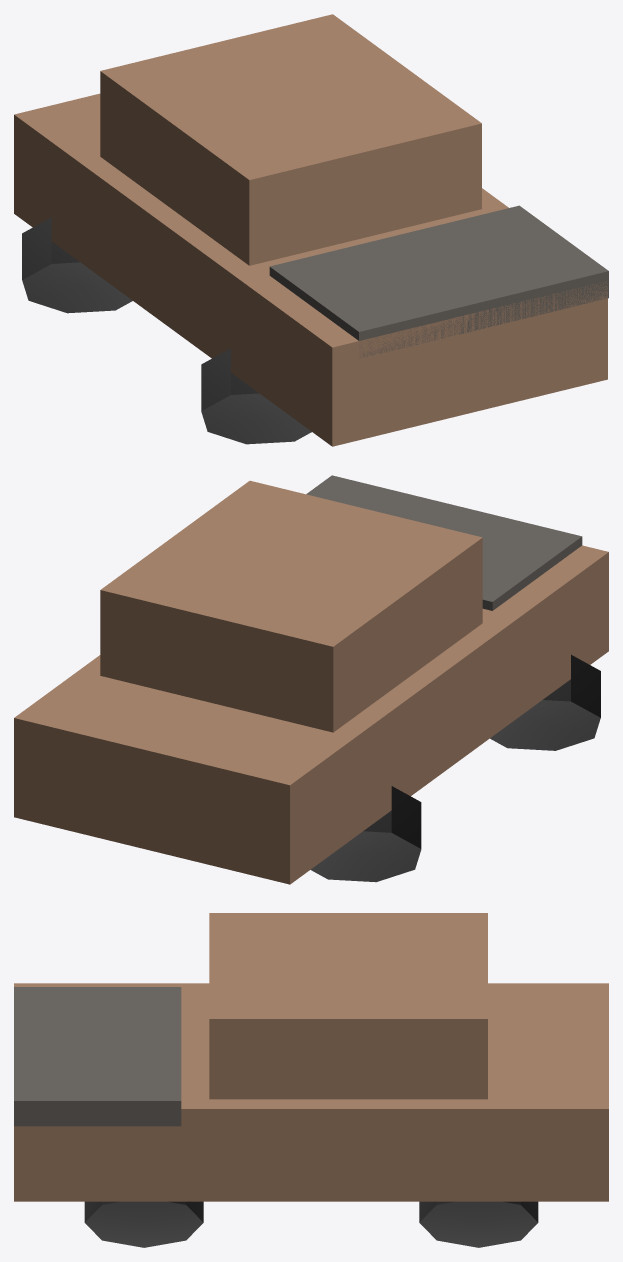
Rendered from Car_Wreck.glb.
3 renders of one model, top to bottom at view 1: azimuth 30°, elevation 25°; view 2: azimuth 150°, elevation 25°; view 3: azimuth 270°, elevation 25°, orthographic. The views are drawn at different scales.
Bounding box in the file's own units: 2.24 × 1.15 × 3.2.
